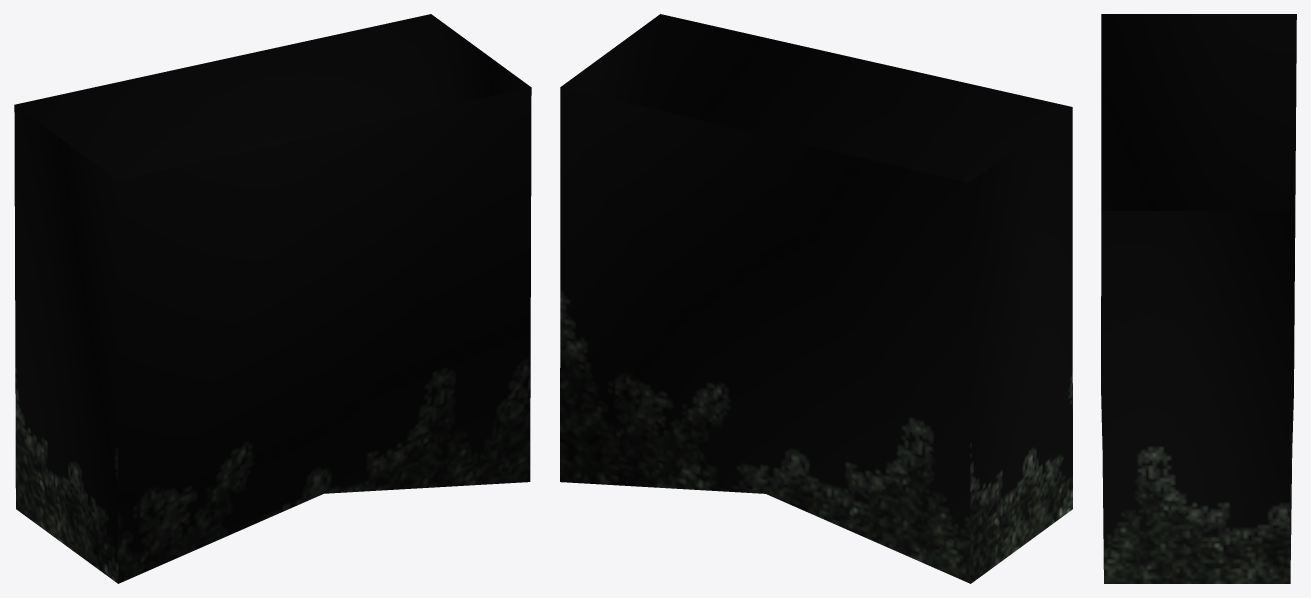
The model's file is SM_EC_Scrubline_Doorway_Alt_1.fbx.
The picture shows the model from 3 angles, left to right: view 1: azimuth 30°, elevation 25°; view 2: azimuth 150°, elevation 25°; view 3: azimuth 270°, elevation 25°; orthographic projection. The views are drawn at different scales.
Visible parts, largest first — view 1: SM_EC_Scrubline_Doorway_Alt_1; view 2: SM_EC_Scrubline_Doorway_Alt_1; view 3: SM_EC_Scrubline_Doorway_Alt_1.
Part boxes in pixels (<box>): SM_EC_Scrubline_Doorway_Alt_1: <box>14,14,531,583</box>; SM_EC_Scrubline_Doorway_Alt_1: <box>560,14,1072,583</box>; SM_EC_Scrubline_Doorway_Alt_1: <box>1101,14,1296,583</box>.
Size of the model in its own units: 2.03 by 0.8825 by 1.89.
